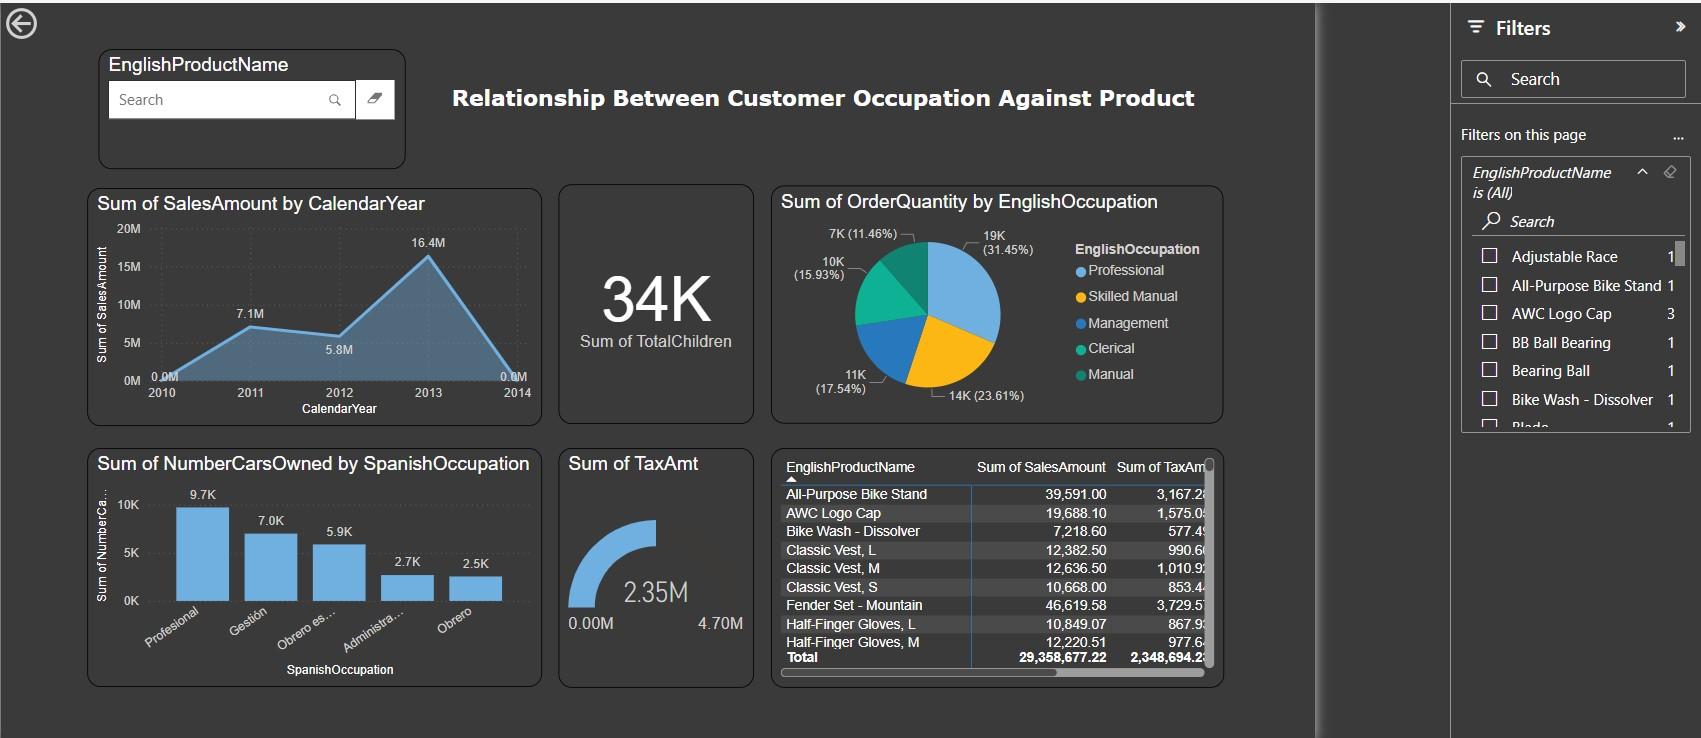

The page's visual inventory and layout, read from the dashboard file:
{"tool":"powerbi","page":{"name":"Report Summary","canvas":[1280,720],"ordinal":0},"visuals":[{"type":"areaChart","fields":{"Category":["DimDate.CalendarYear"],"Y":["Sum(FactInternetSales.SalesAmount)"]},"box":[83.7,179.8,443.2,231.9],"z":0},{"type":"pieChart","fields":{"Y":["Sum(FactInternetSales.OrderQuantity)"],"Category":["DimCustomer.EnglishOccupation"]},"box":[750.6,178.4,440.5,231.9],"z":1000},{"type":"card","fields":{"Values":["Sum(DimCustomer.TotalChildren)"]},"box":[543.4,177,190.7,233.3],"z":4000},{"type":"pivotTable","fields":{"Rows":["DimProduct.EnglishProductName"],"Values":["Sum(FactInternetSales.SalesAmount)","Sum(FactInternetSales.TaxAmt)","Sum(FactInternetSales.UnitPrice)"]},"box":[750.6,433.6,441.9,233.3],"z":5000},{"type":"columnChart","fields":{"Y":["Sum(DimCustomer.NumberCarsOwned)"],"Category":["DimCustomer.SpanishOccupation"]},"box":[84,434,443,233],"z":5001},{"type":"gauge","fields":{"Y":["Sum(FactInternetSales.TaxAmt)"]},"box":[543.4,433.6,190.7,233.3],"z":5002},{"type":"textFilter25A4896A83E0487089E2B90C9AE57C8A","fields":{"field":["DimProduct.EnglishProductName"]},"box":[94.7,45.3,299.1,116.6],"z":5003},{"type":"actionButton","box":[0,0,100,40],"z":5004},{"type":"textbox","box":[408.9,74.1,783.5,87.8],"z":5005}]}

Visuals, with their boxes on the page's 1280x720 design canvas (x1, y1, x2, y2). These are canvas units, not pixel positions in the 1701x738 screenshot, which may show the page scaled, cropped or inside an application window:
areaChart - DimDate.CalendarYear x Sum(FactInternetSales.SalesAmount): {"left": 84, "top": 180, "right": 527, "bottom": 412}
pieChart - Sum(FactInternetSales.OrderQuantity) x DimCustomer.EnglishOccupation: {"left": 751, "top": 178, "right": 1191, "bottom": 410}
card - Sum(DimCustomer.TotalChildren): {"left": 543, "top": 177, "right": 734, "bottom": 410}
pivotTable - DimProduct.EnglishProductName x Sum(FactInternetSales.SalesAmount): {"left": 751, "top": 434, "right": 1192, "bottom": 667}
columnChart - Sum(DimCustomer.NumberCarsOwned) x DimCustomer.SpanishOccupation: {"left": 84, "top": 434, "right": 527, "bottom": 667}
gauge - Sum(FactInternetSales.TaxAmt): {"left": 543, "top": 434, "right": 734, "bottom": 667}
textFilter25A4896A83E0487089E2B90C9AE57C8A - DimProduct.EnglishProductName: {"left": 95, "top": 45, "right": 394, "bottom": 162}
actionButton: {"left": 0, "top": 0, "right": 100, "bottom": 40}
textbox: {"left": 409, "top": 74, "right": 1192, "bottom": 162}
